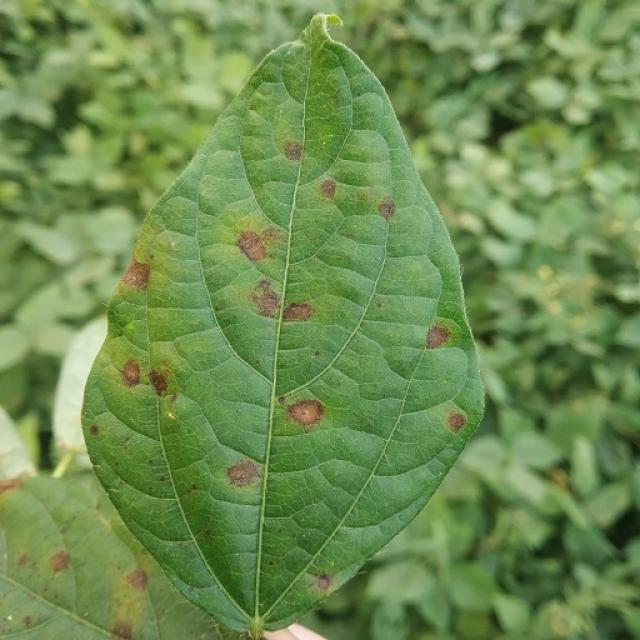Anthracnose: (249, 276, 313, 322), (235, 224, 284, 263), (278, 390, 324, 431), (224, 458, 262, 489), (120, 256, 151, 289), (425, 323, 451, 350), (147, 368, 171, 397), (308, 572, 335, 597), (121, 359, 141, 388), (126, 568, 149, 591), (49, 551, 70, 575), (445, 410, 467, 432), (377, 197, 396, 220), (319, 179, 337, 199), (283, 143, 303, 161), (112, 622, 133, 639), (16, 553, 30, 568), (88, 424, 99, 436), (277, 395, 286, 405)
Blackgram: (84, 16, 482, 629)
